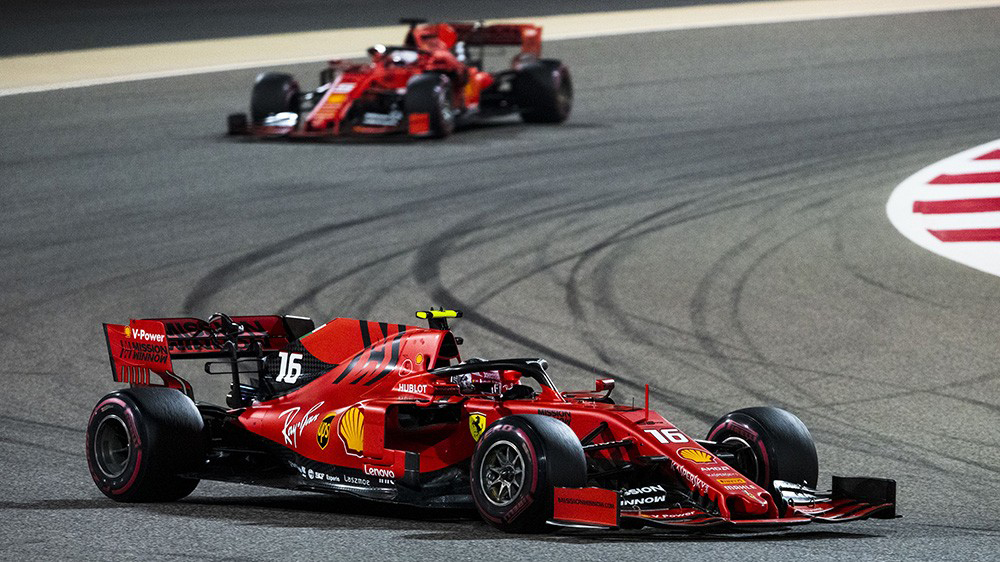F1 Car: (61, 296, 912, 549), (218, 15, 582, 153)
